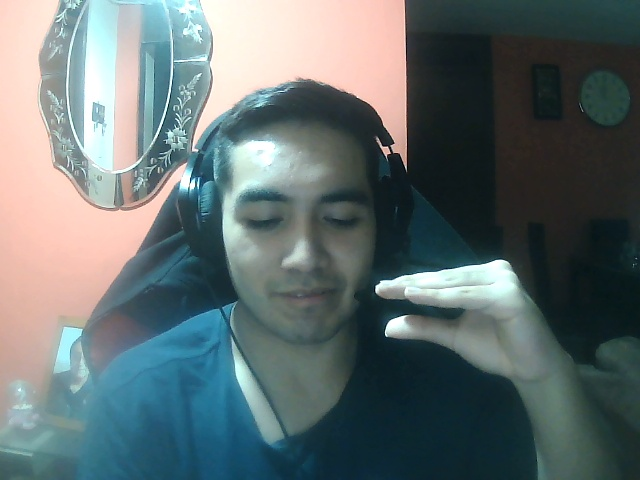no: (370, 256, 576, 380)
